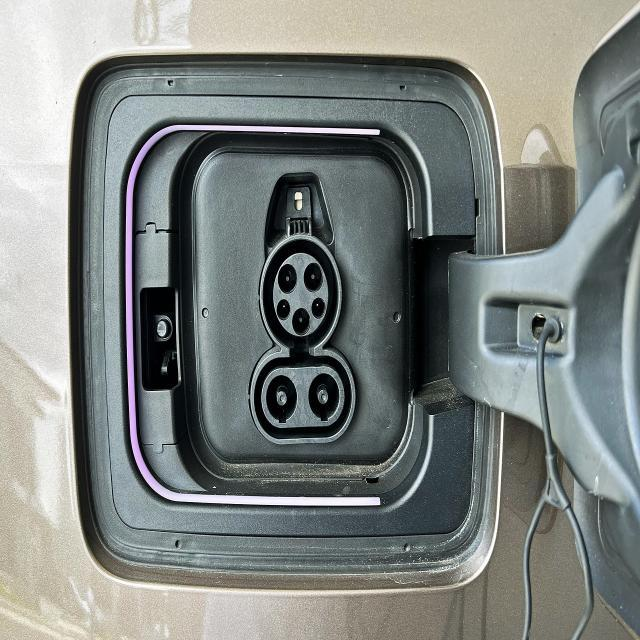CCS1: (224, 228, 394, 470)
